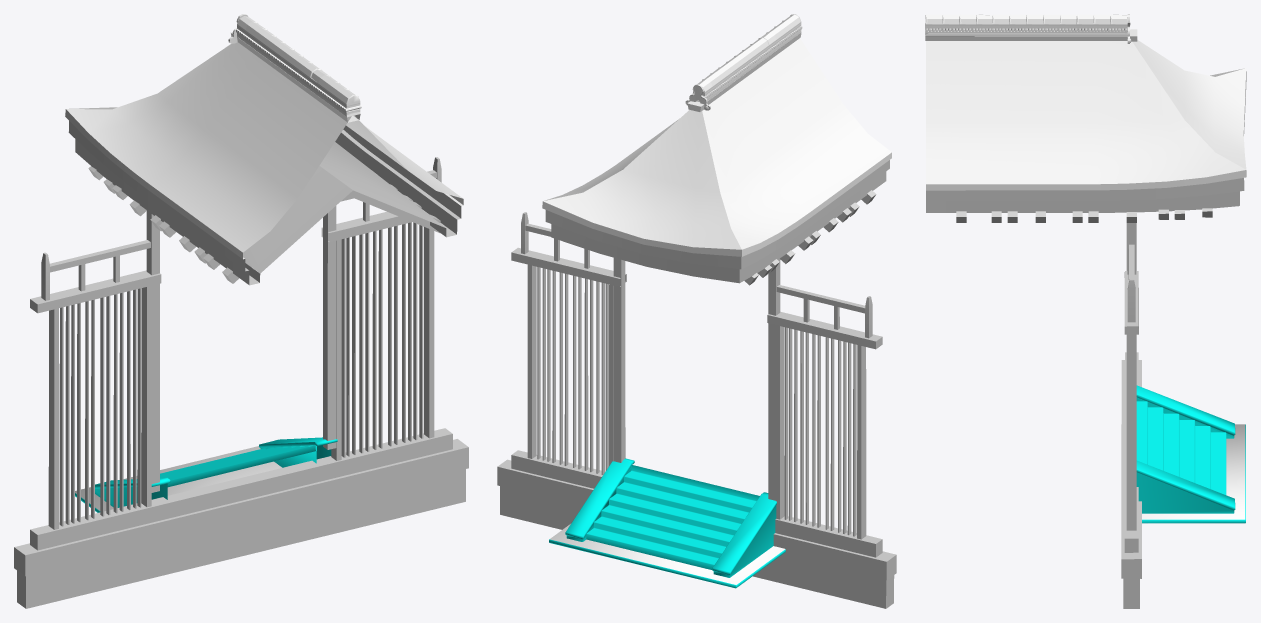
The model's file is BridgeB.fbx.
3 views of the same model, side by side, from view 1: azimuth 30°, elevation 25°; view 2: azimuth 150°, elevation 25°; view 3: azimuth 270°, elevation 25° (orthographic). The views are drawn at different scales.
Visible parts, largest first — view 1: S_Heiankyo_Bridge_Roof_End.001; view 2: S_Heiankyo_Bridge_Roof_End.001; view 3: S_Heiankyo_Bridge_Roof_End.001.
Boxes of the visible parts, x1=… form: S_Heiankyo_Bridge_Roof_End.001: x1=14, y1=14, x2=468, y2=608; S_Heiankyo_Bridge_Roof_End.001: x1=497, y1=14, x2=896, y2=608; S_Heiankyo_Bridge_Roof_End.001: x1=925, y1=14, x2=1246, y2=608.
Size of the model in its own units: 657 by 763 by 449.
